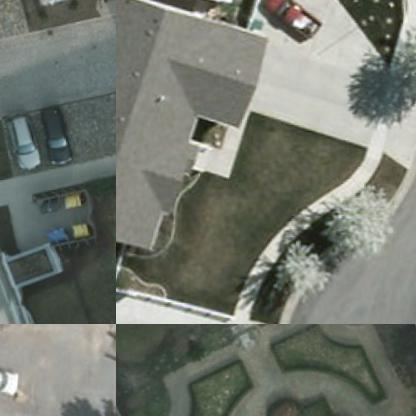car: (5, 112, 40, 170), (40, 102, 72, 165), (0, 351, 28, 397)
pickup: (258, 0, 323, 39)
